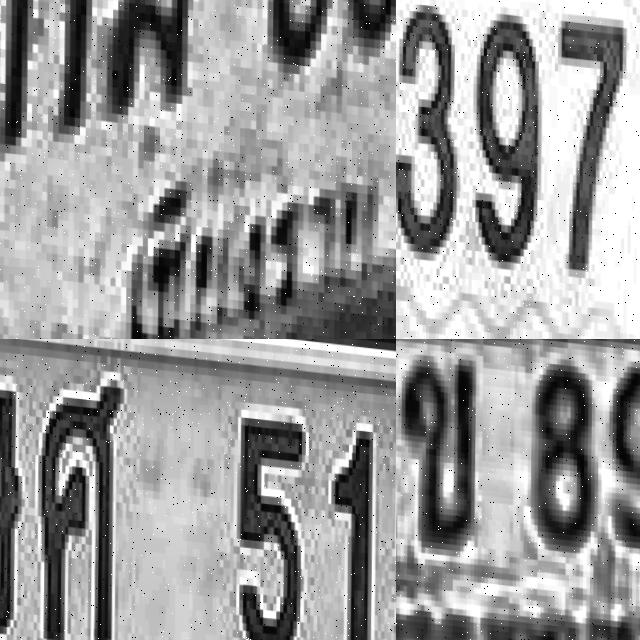license-plate: (0, 0, 396, 339), (0, 339, 396, 640), (396, 0, 640, 339), (396, 339, 640, 640)
